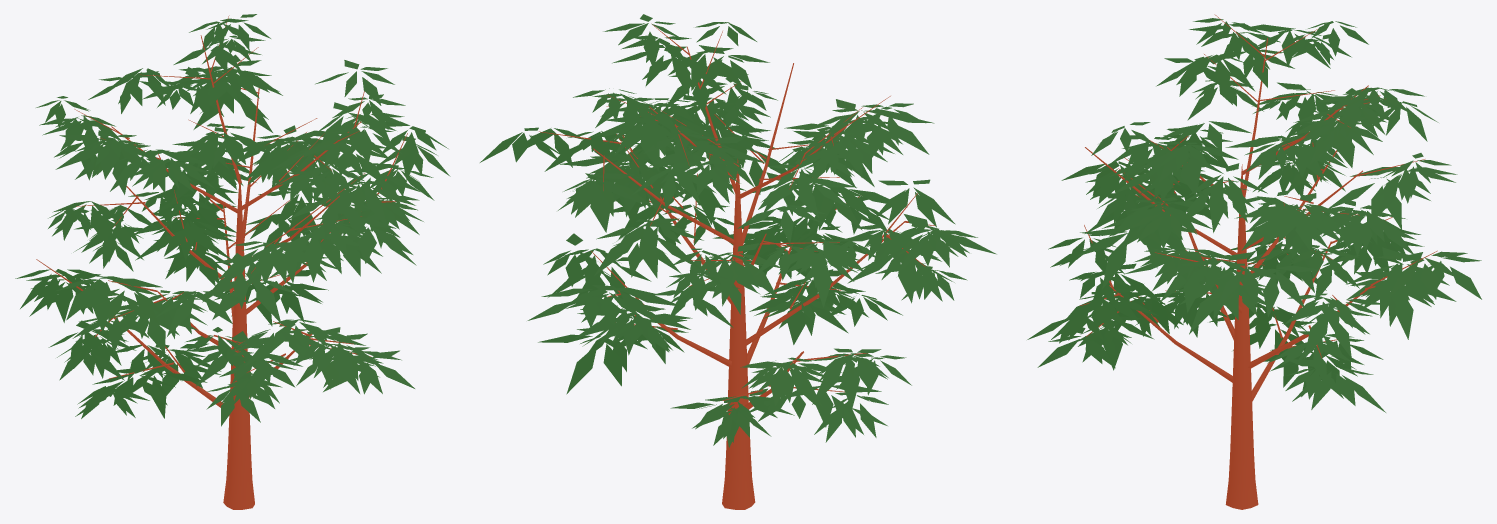
Rendered from Blender_Madrone_1.glb.
3 views of the same model, side by side, from view 1: azimuth 30°, elevation 25°; view 2: azimuth 150°, elevation 25°; view 3: azimuth 270°, elevation 25° (orthographic). The views are drawn at different scales.
Parts seen in each view (by area): view 1: Blender_Madrone_1; view 2: Blender_Madrone_1; view 3: Blender_Madrone_1.
Part boxes in pixels (x1,y1,x2,y2): Blender_Madrone_1: [15, 14, 450, 509]; Blender_Madrone_1: [480, 14, 996, 509]; Blender_Madrone_1: [1027, 14, 1481, 509].
Bounding box in the file's own units: 17.59 × 16.46 × 15.61.
